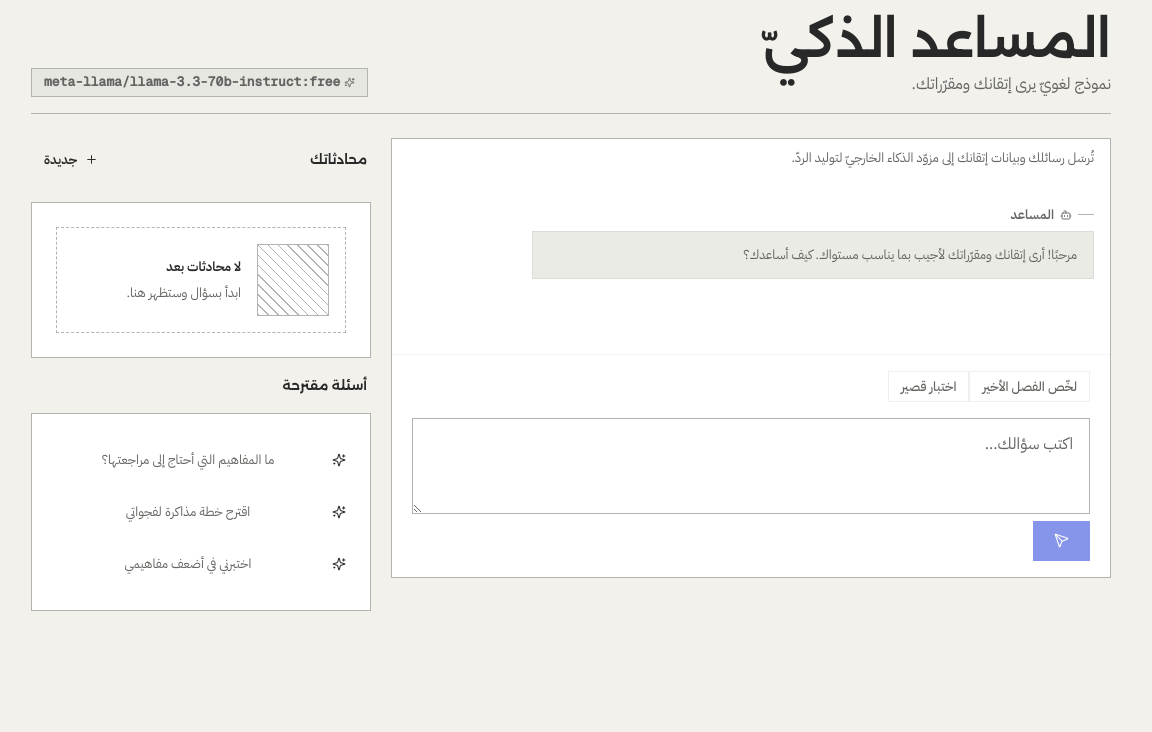
Test case: AiAssistantPage — SSE consumption (r323 B1.1) › STOP keeps the partial text honestly (no engine tag, no feedback — nothing was persisted)
Type "سؤال أُوقف" into the text box named "اكتب سؤالك للمساعد".
click(751, 466); type("سؤال أُوقف")  # box [412,418,1090,514]
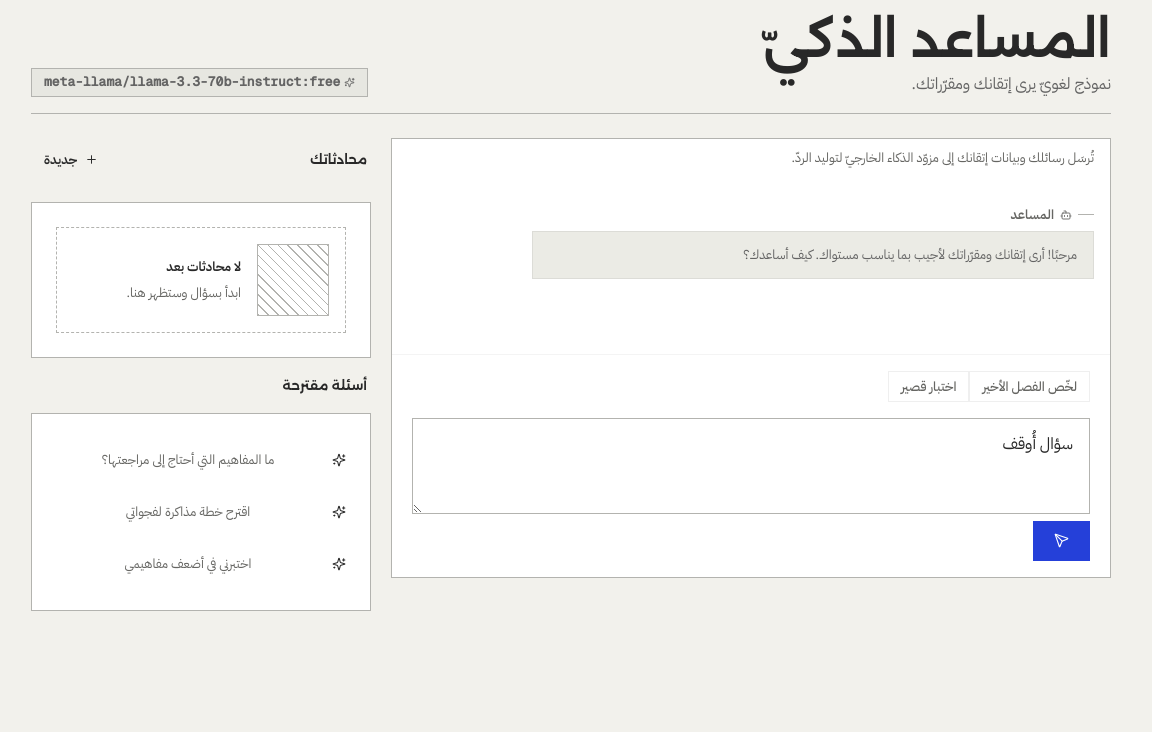
Click the button named "إرسال".
click(1062, 540)  # box [1033,520,1090,560]
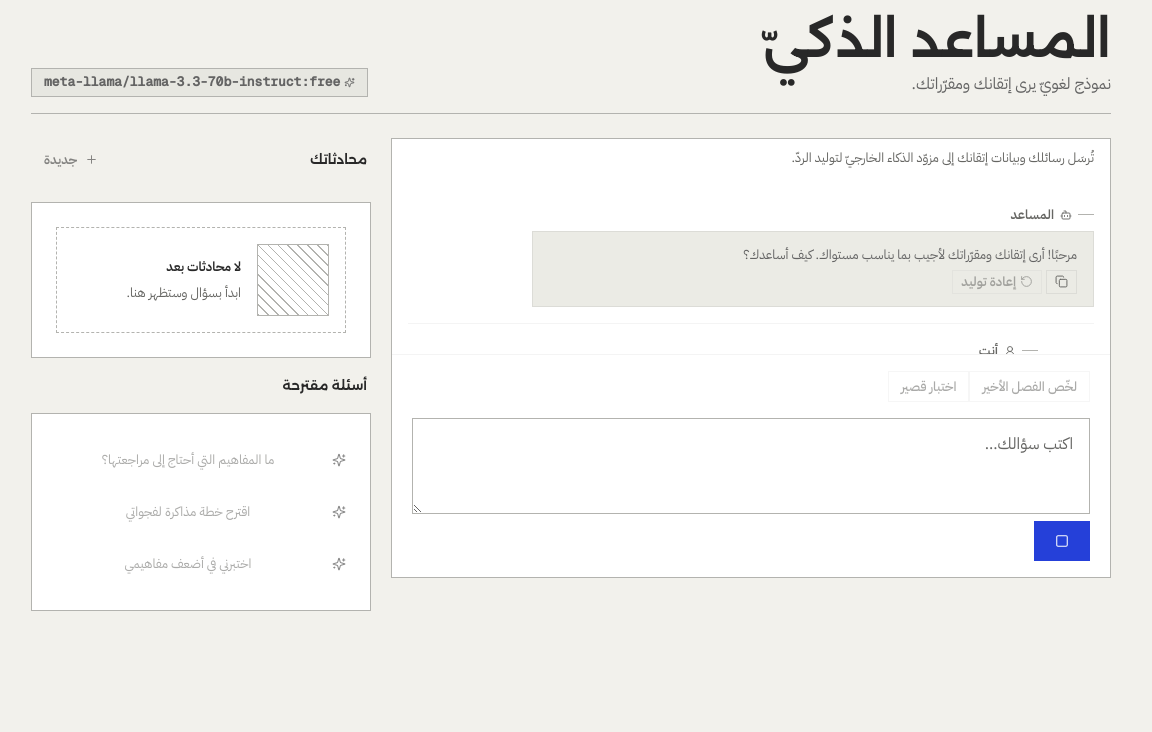
Click the button named "إيقاف التوليد".
click(1062, 540)  # box [1034,520,1090,560]
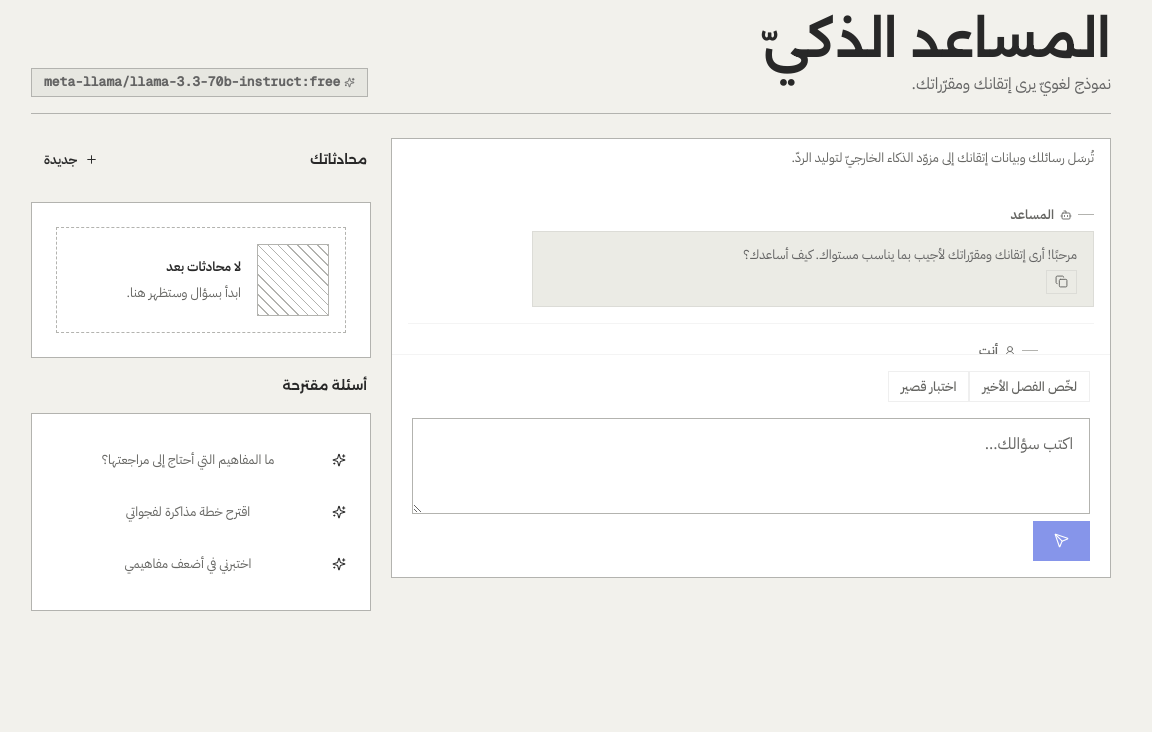
Expected: the button named "إرسال" is shown, [1033,520,1090,560]
